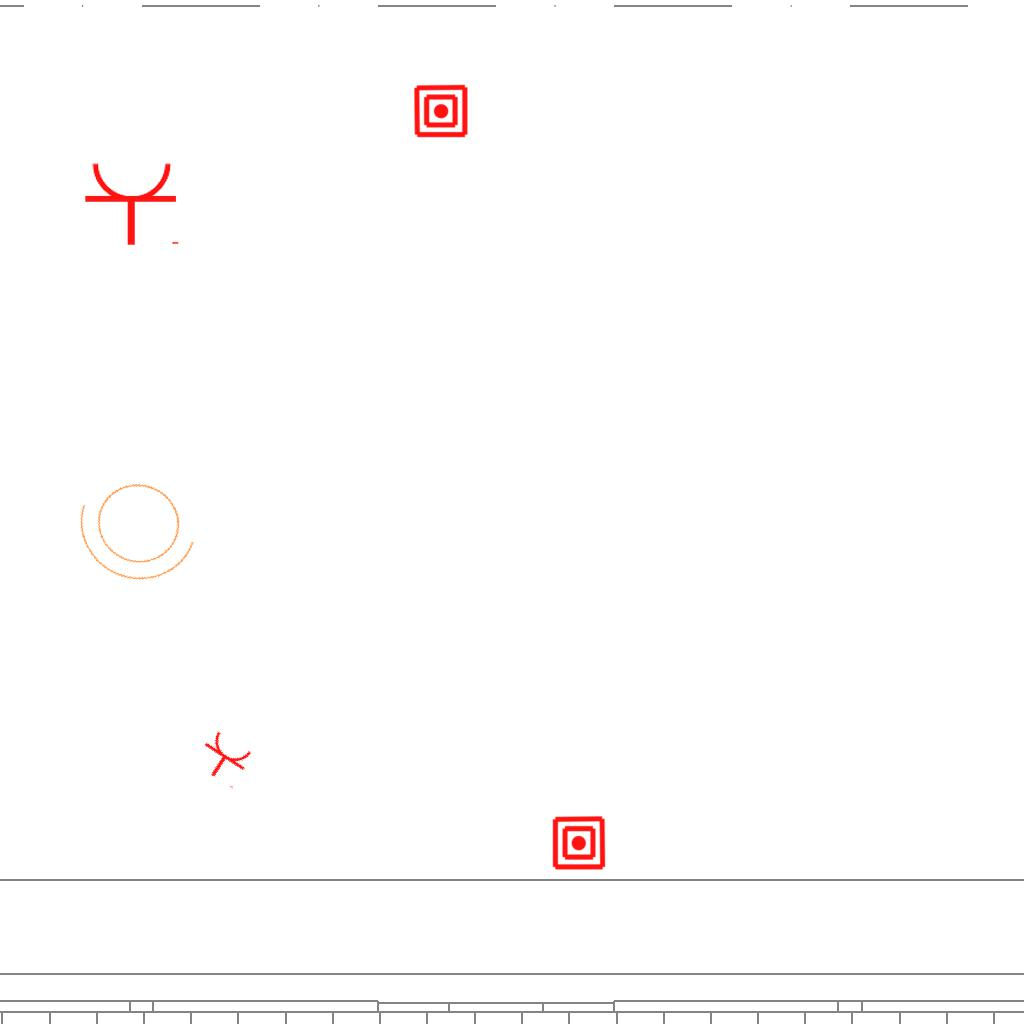NAM-Nichtautomatischer_Melder: (551, 815, 607, 871), (413, 83, 469, 139)
Scheinwerfer_fuer_Alarmbeleuchtung: (59, 454, 221, 604)
Schukosteckdose_einfach: (83, 160, 183, 247), (191, 727, 258, 791)
